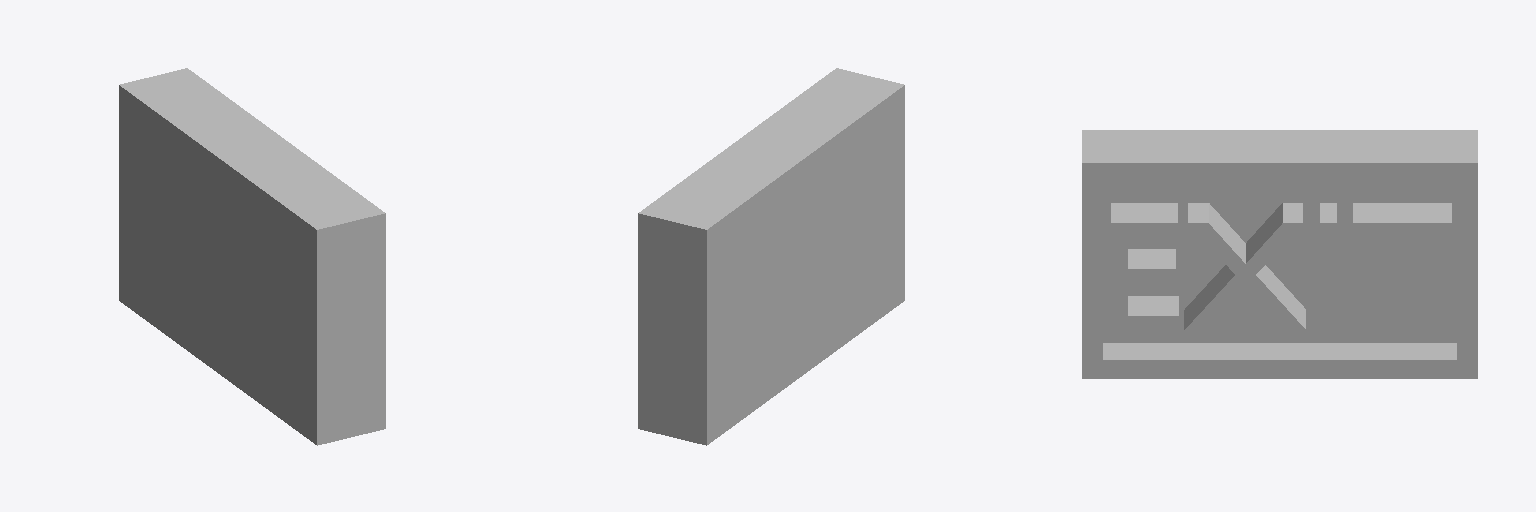
The model's file is ExitSign.obj.
3 renders of one model, left to right at view 1: azimuth 30°, elevation 25°; view 2: azimuth 150°, elevation 25°; view 3: azimuth 270°, elevation 25°, orthographic.
Visible parts, largest first — view 1: Cube; view 2: Cube; view 3: Cube, Text.
Part boxes in pixels (bbox=[...]): Cube: bbox=[119, 68, 385, 445]; Cube: bbox=[638, 68, 904, 445]; Cube: bbox=[1082, 130, 1477, 378]; Text: bbox=[1111, 203, 1451, 329].
Bounding box in the file's own units: 0.4433 × 1.2 × 2.